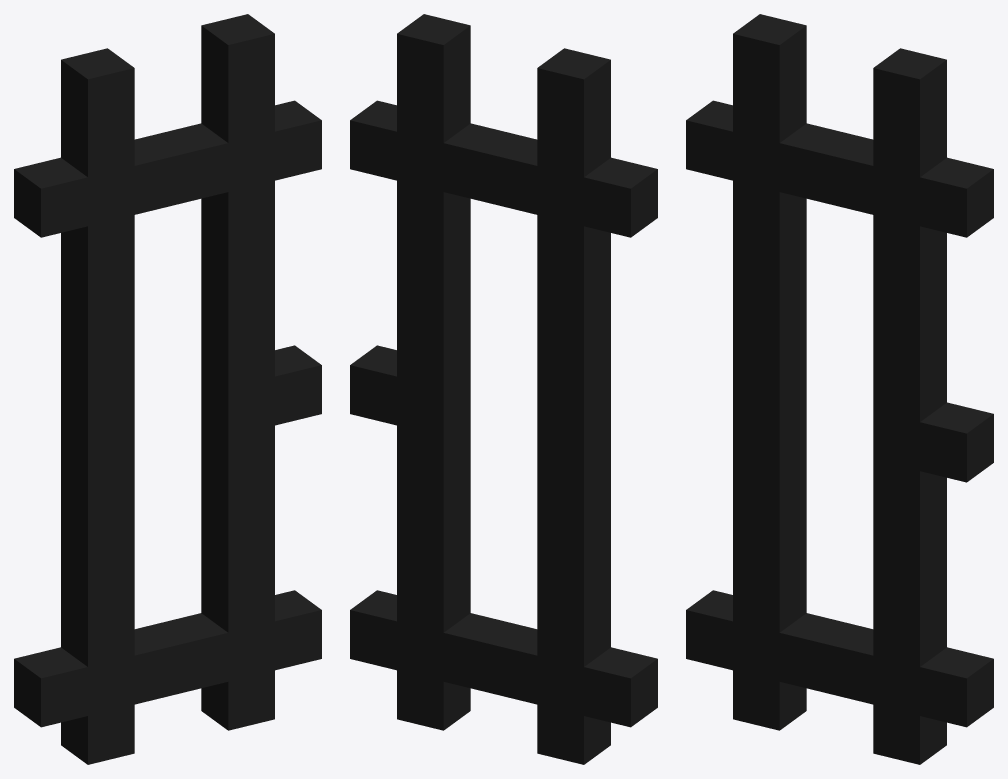
Rendered from cage_01.fbx.
3 views of the same model, side by side, from view 1: azimuth 30°, elevation 25°; view 2: azimuth 150°, elevation 25°; view 3: azimuth 330°, elevation 25° (orthographic).
Visible parts, largest first — view 1: cage_01_0; view 2: cage_01_0; view 3: cage_01_0.
Part boxes in pixels (x1,y1,x2,y2): cage_01_0: [14, 14, 321, 764]; cage_01_0: [350, 14, 657, 764]; cage_01_0: [686, 14, 993, 764].
Bounding box in the file's own units: 600 × 100 × 1400.
